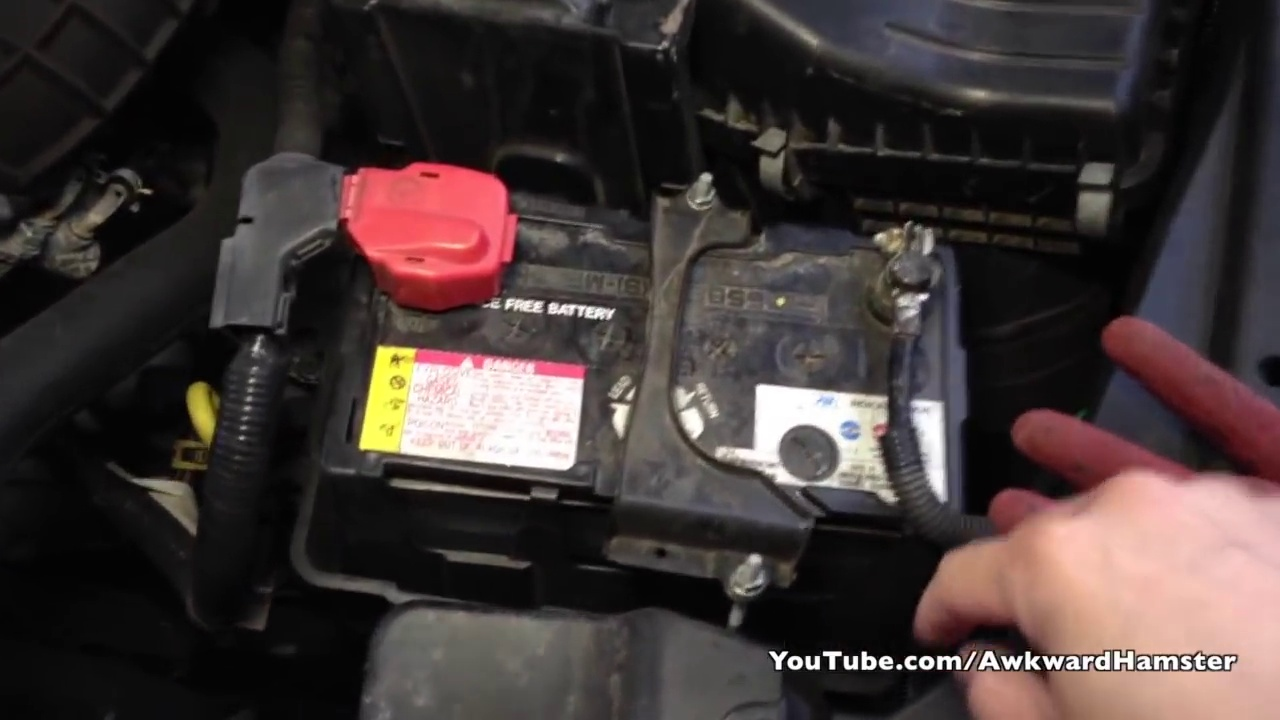battery: (336, 176, 965, 529)
neg_connected: (839, 204, 970, 359)
pos_connected: (265, 166, 528, 308)
